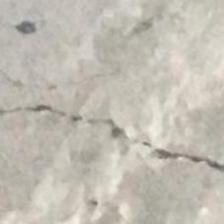Crack: (0, 41, 224, 196)
